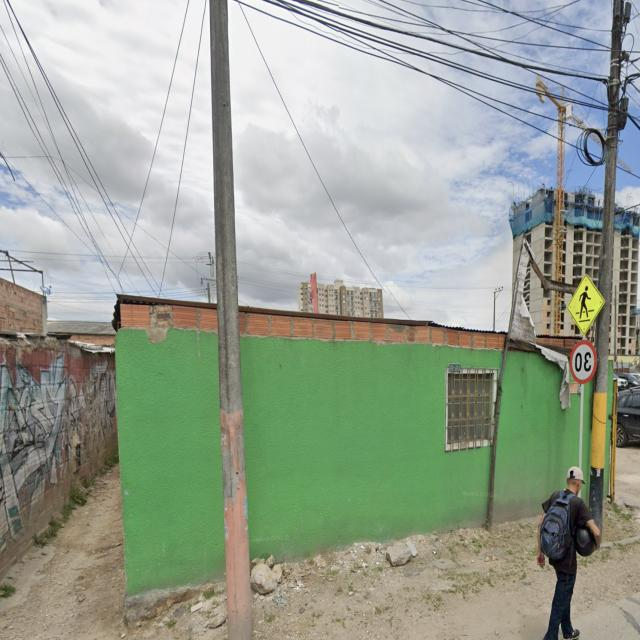Fachada: (238, 307, 592, 559), (114, 295, 231, 594)
Poste: (210, 0, 252, 640), (589, 0, 628, 526)
